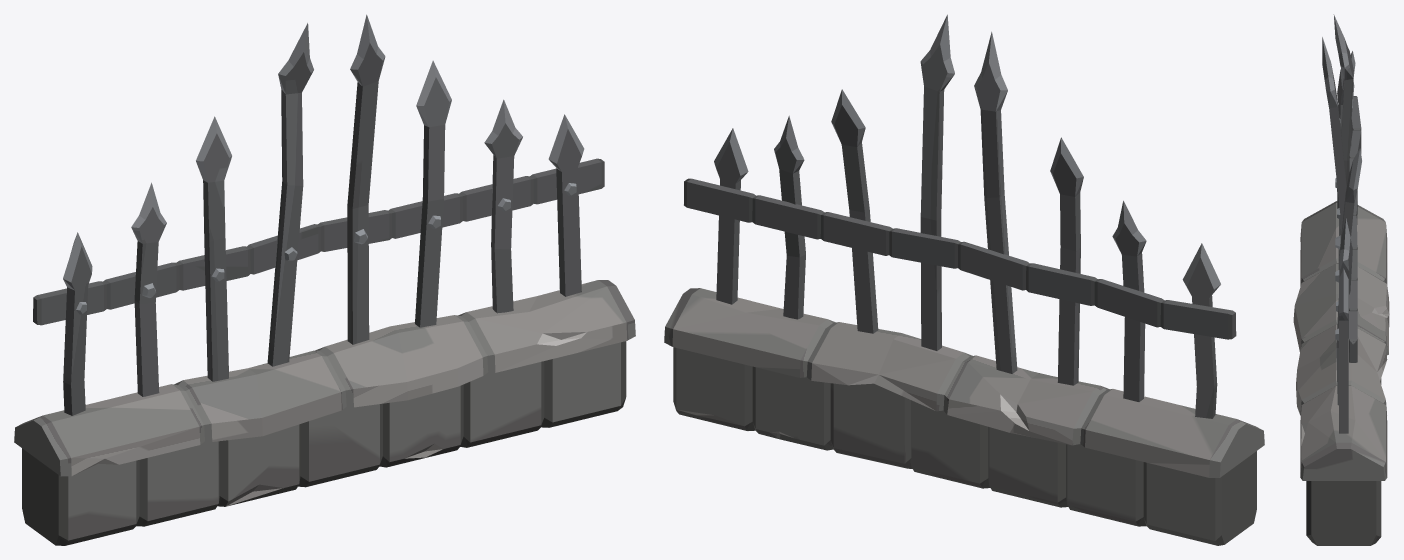
Rendered from crypt_fence_short.gltf.
The picture shows the model from 3 angles, left to right: view 1: azimuth 30°, elevation 25°; view 2: azimuth 150°, elevation 25°; view 3: azimuth 270°, elevation 25°; orthographic projection. The views are drawn at different scales.
Visible parts, largest first — view 1: crypt_fence_short; view 2: crypt_fence_short; view 3: crypt_fence_short.
Part boxes in pixels (x1,y1,x2,y2): crypt_fence_short: (14,14,635,545); crypt_fence_short: (664,14,1264,545); crypt_fence_short: (1293,14,1389,545).
Bounding box in the file's own units: 2.53 × 1.91 × 0.4143.
1 material, 1 textured.
